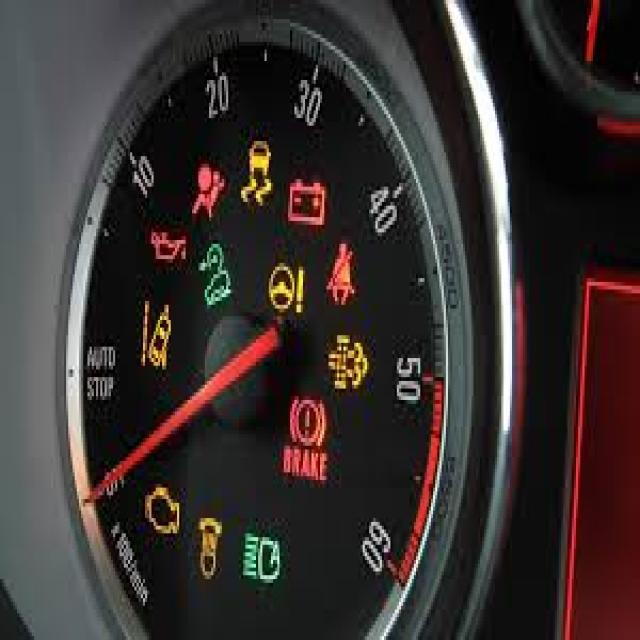kontrolka: (274, 384, 338, 497), (135, 290, 175, 388), (320, 324, 376, 394), (235, 521, 288, 593), (139, 477, 188, 552), (190, 240, 238, 316), (285, 172, 335, 236), (236, 134, 276, 213), (264, 253, 306, 328), (324, 237, 361, 322), (193, 513, 226, 597), (188, 163, 227, 229), (148, 220, 187, 270)
